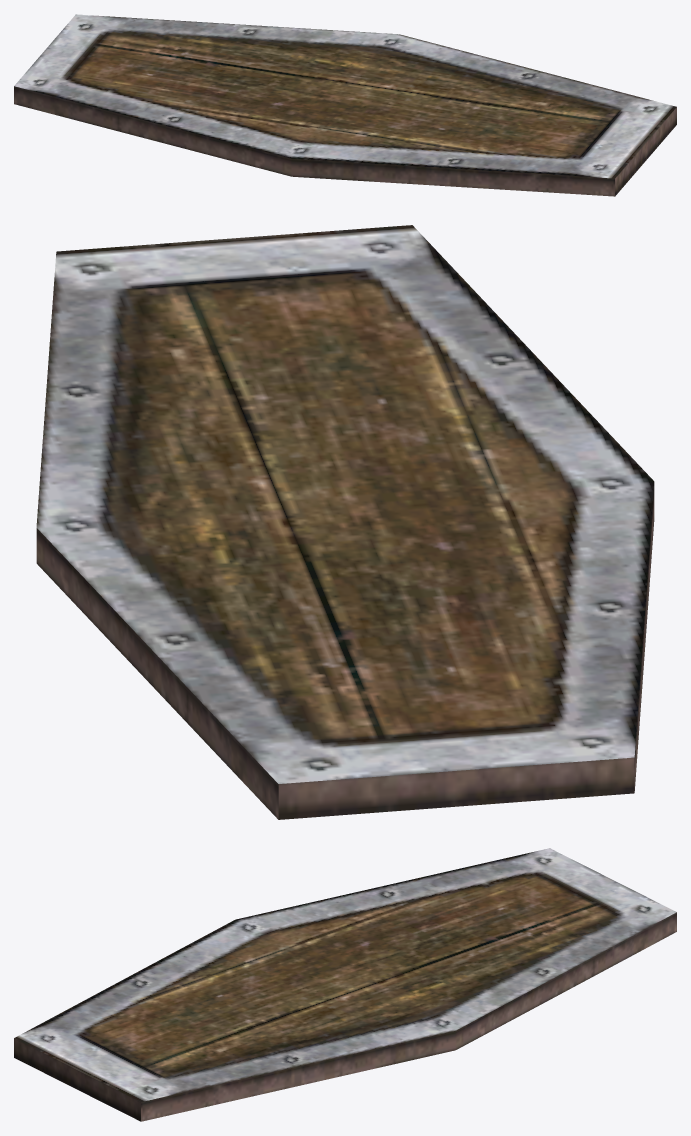
File: msm.glb
3 renders of one model, top to bottom at view 1: azimuth 30°, elevation 25°; view 2: azimuth 150°, elevation 25°; view 3: azimuth 270°, elevation 25°, orthographic. The views are drawn at different scales.
Visible parts, largest first — view 1: msm; view 2: msm; view 3: msm.
Part boxes in pixels (x1,y1,x2,y2): msm: [14, 14, 676, 196]; msm: [36, 225, 654, 819]; msm: [14, 848, 676, 1121].
Bounding box in the file's own units: 0.8549 × 0.0308 × 0.9428.
Materials: 1 (1 with a texture image).
